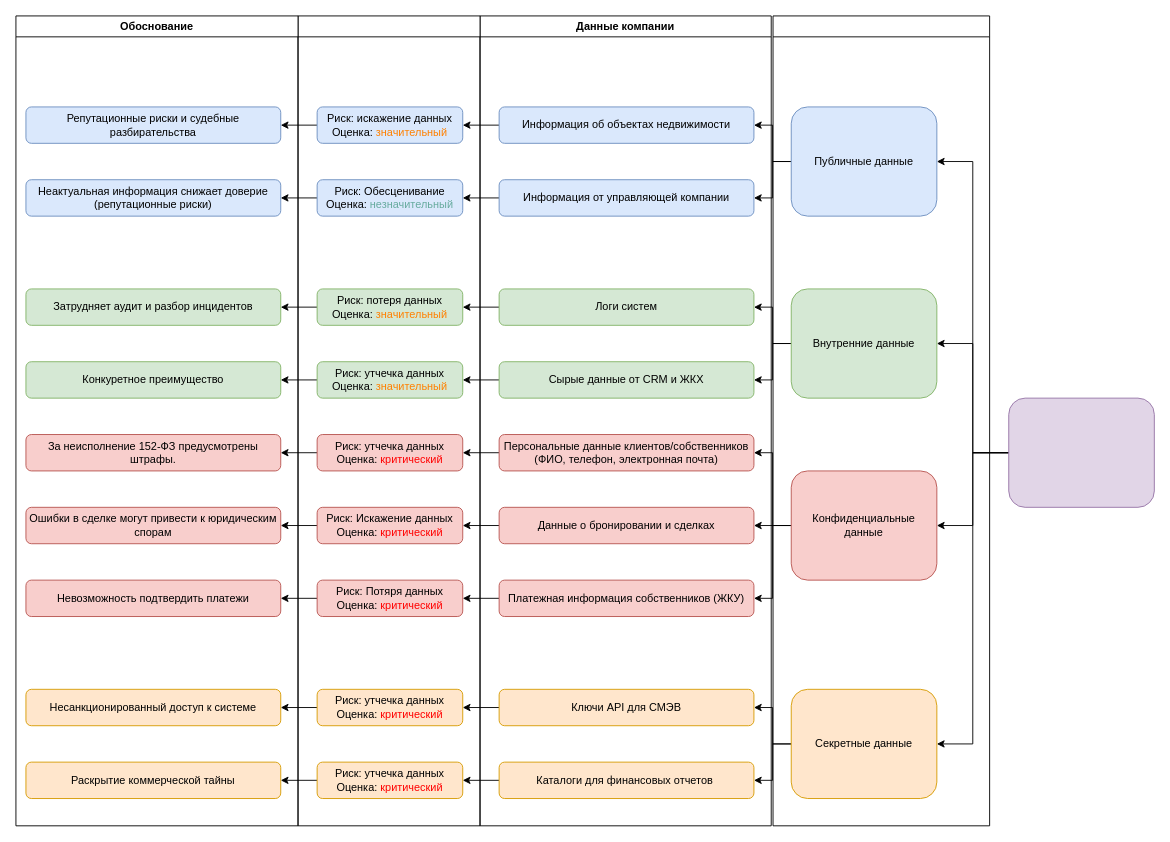
The diagram is 1170 pixels wide and 842 high, and some of its shapes have lost their labels. Each missing label, with the centre of its shape:
Безопасность данных: point 1081,452
Категория данных: point 881,420
Риск и оценка: point 388,420
